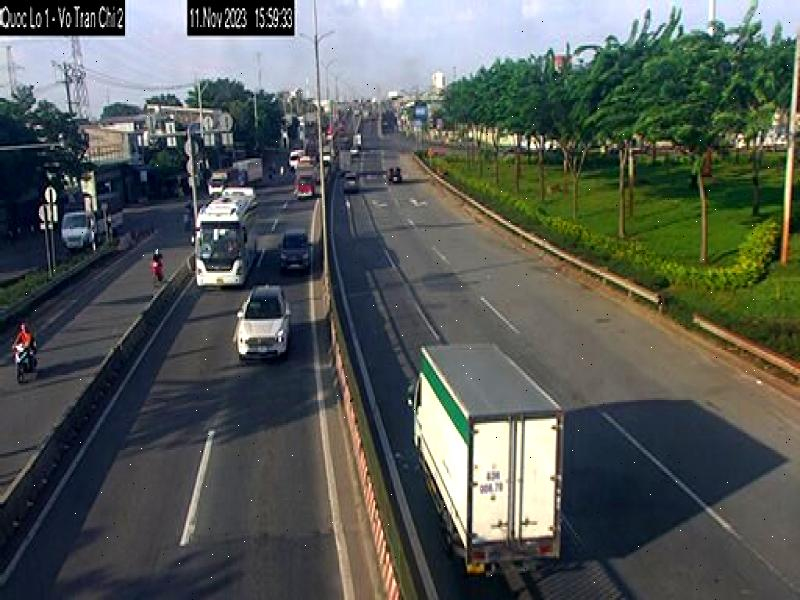bus: (194, 184, 264, 293)
truck: (411, 344, 564, 573)
